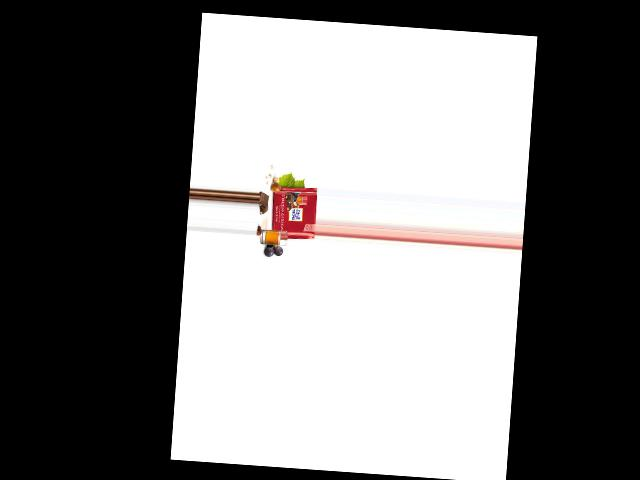chocolate: (270, 183, 317, 239)
